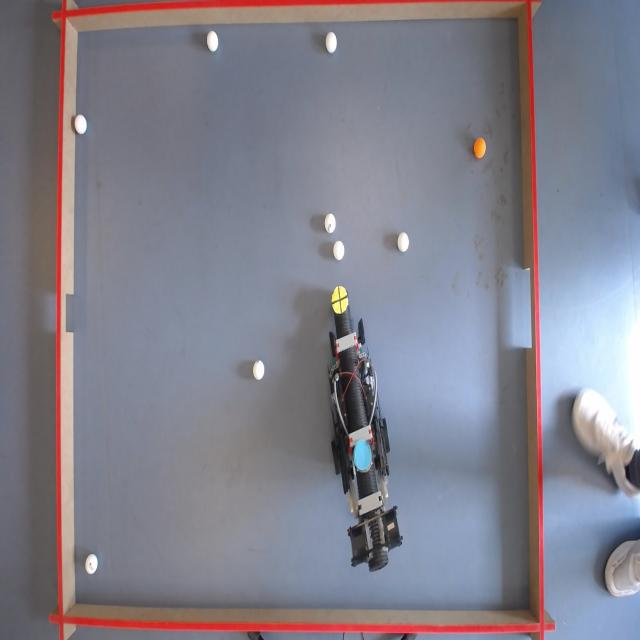orange: (473, 138, 488, 158)
robot: (328, 285, 397, 571)
robot-front: (333, 284, 348, 314)
robot-rear: (353, 439, 373, 471)
white: (324, 31, 338, 54), (85, 554, 99, 576), (334, 240, 347, 262), (207, 31, 220, 52), (397, 233, 409, 254), (253, 360, 265, 381), (324, 213, 336, 232)
